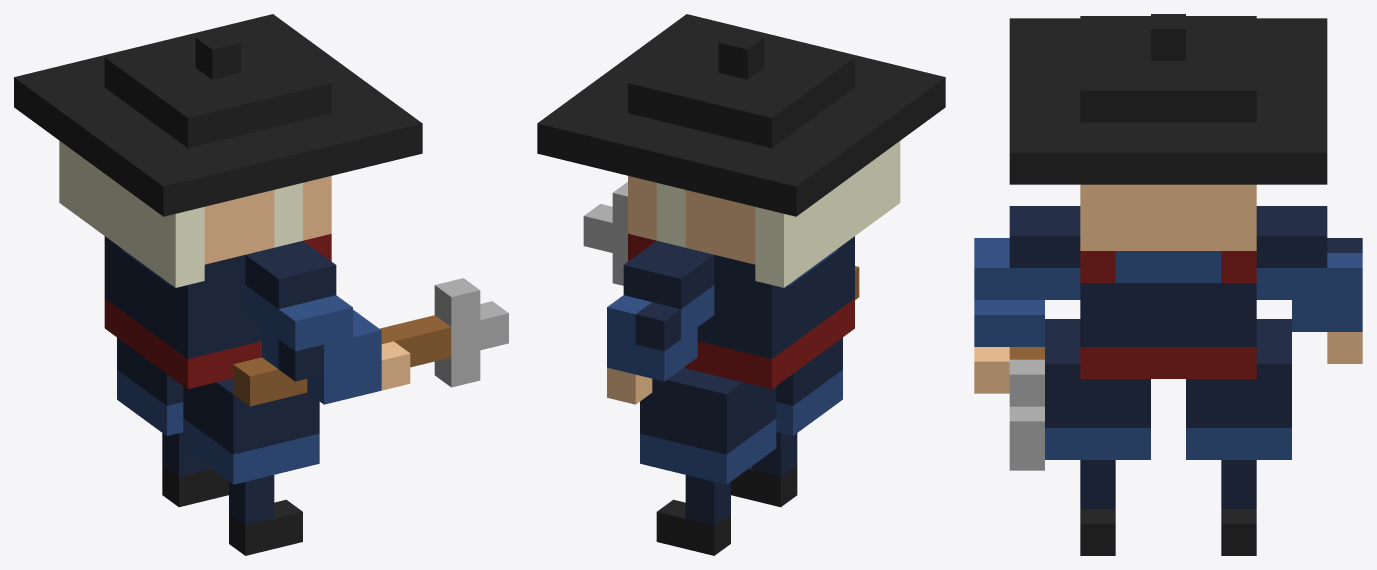
File: ashigaru_attack.obj
3 renders of one model, left to right at view 1: azimuth 30°, elevation 25°; view 2: azimuth 150°, elevation 25°; view 3: azimuth 270°, elevation 25°, orthographic. The views are drawn at different scales.
Size of the model in its own units: 1.2 by 1.6 by 1.1.
1 material, 1 textured.
